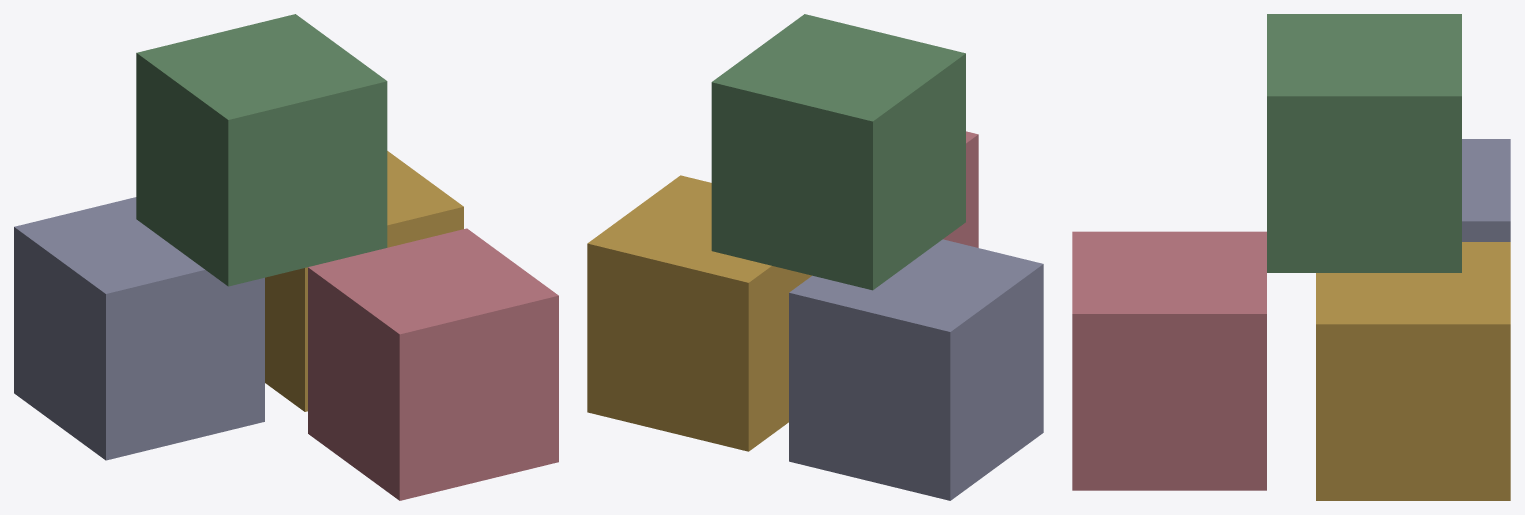
The model's file is mathematics-10.glb.
The picture shows the model from 3 angles, left to right: view 1: azimuth 30°, elevation 25°; view 2: azimuth 150°, elevation 25°; view 3: azimuth 270°, elevation 25°; orthographic projection. The views are drawn at different scales.
Parts seen in each view (by area): view 1: Counting blocks; view 2: Counting blocks; view 3: Counting blocks.
Part boxes in pixels (x1=…): Counting blocks: x1=14, y1=14, x2=558, y2=500; Counting blocks: x1=587, y1=14, x2=1043, y2=500; Counting blocks: x1=1072, y1=14, x2=1510, y2=500.
Bounding box in the file's own units: 1.44 × 1.28 × 1.44.
